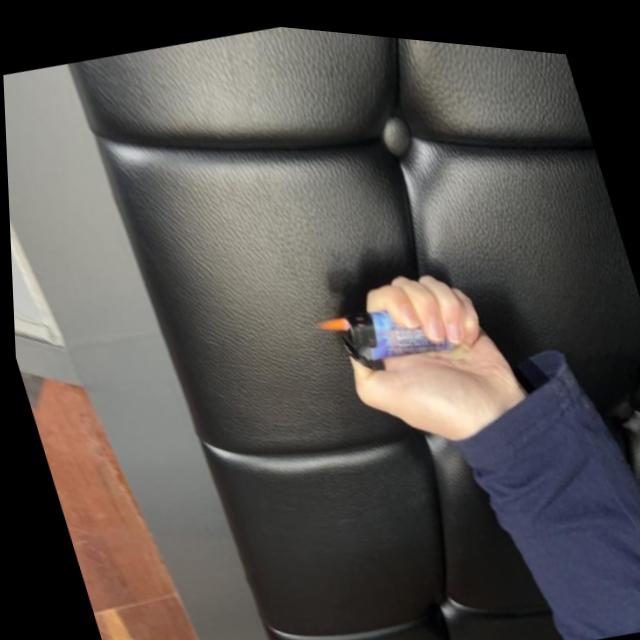Fire: (310, 303, 351, 332)
